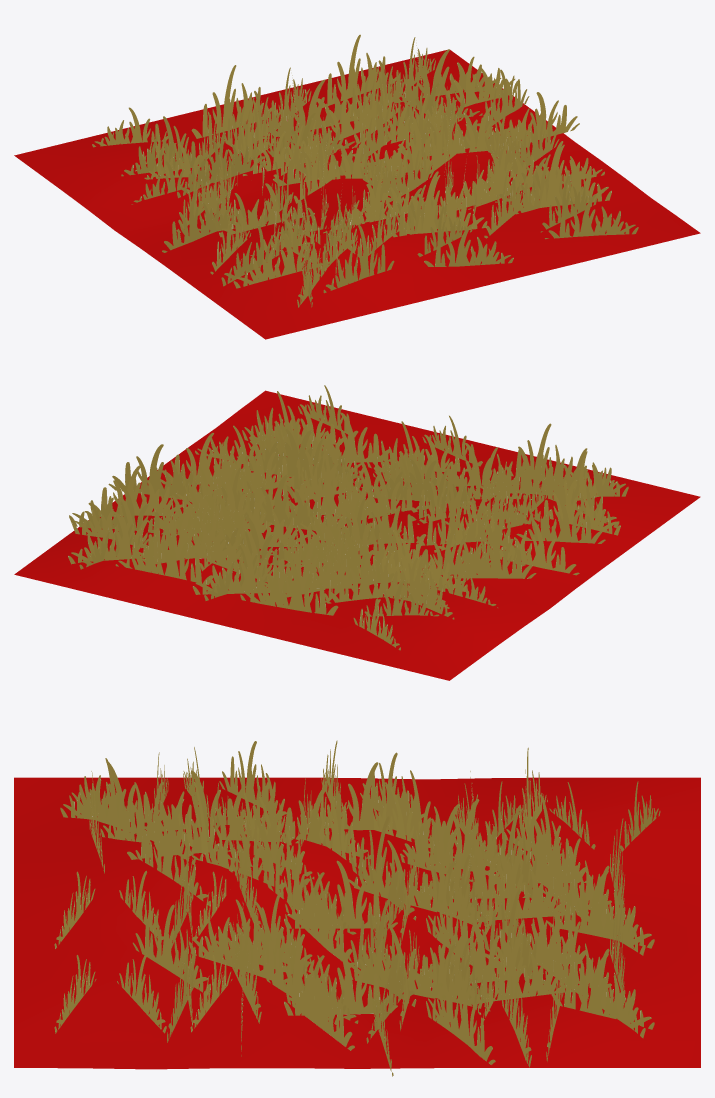
The model's file is FieldAlt2.fbx.
3 views of the same model, one above another, from view 1: azimuth 30°, elevation 25°; view 2: azimuth 150°, elevation 25°; view 3: azimuth 270°, elevation 25° (orthographic). The views are drawn at different scales.
Visible parts, largest first — view 1: polySurface499; view 2: polySurface499; view 3: polySurface499.
Part boxes in pixels (x1,y1,x2,y2): polySurface499: [14, 34, 700, 339]; polySurface499: [14, 385, 700, 680]; polySurface499: [14, 740, 700, 1076].
Bounding box in the file's own units: 1.06 × 0.1671 × 1.
